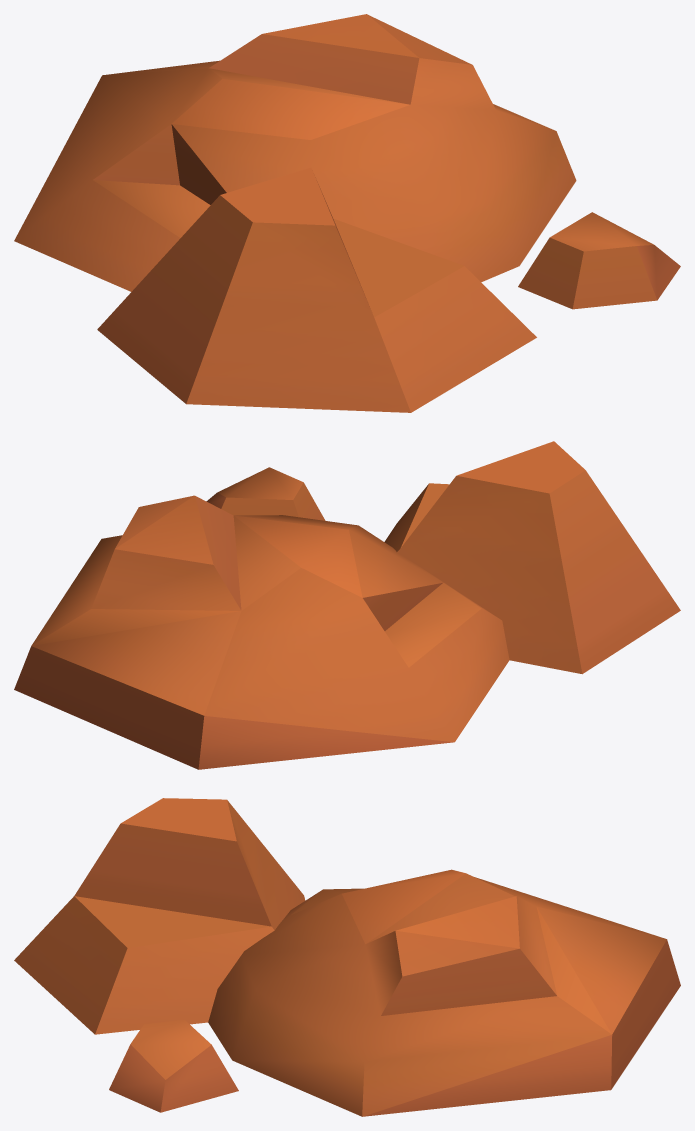
File: boulders_a.glb
3 renders of one model, top to bottom at view 1: azimuth 30°, elevation 25°; view 2: azimuth 150°, elevation 25°; view 3: azimuth 270°, elevation 25°, orthographic. The views are drawn at different scales.
Visible parts, largest first — view 1: rocks_A; view 2: rocks_A; view 3: rocks_A.
Boxes of the visible parts, x1,y1,x2,y2 form: rocks_A: (14,14,680,412); rocks_A: (14,441,680,769); rocks_A: (14,798,680,1116).
Size of the model in its own units: 1.31 by 0.354 by 1.64.
Materials: 1 (1 with a texture image).
